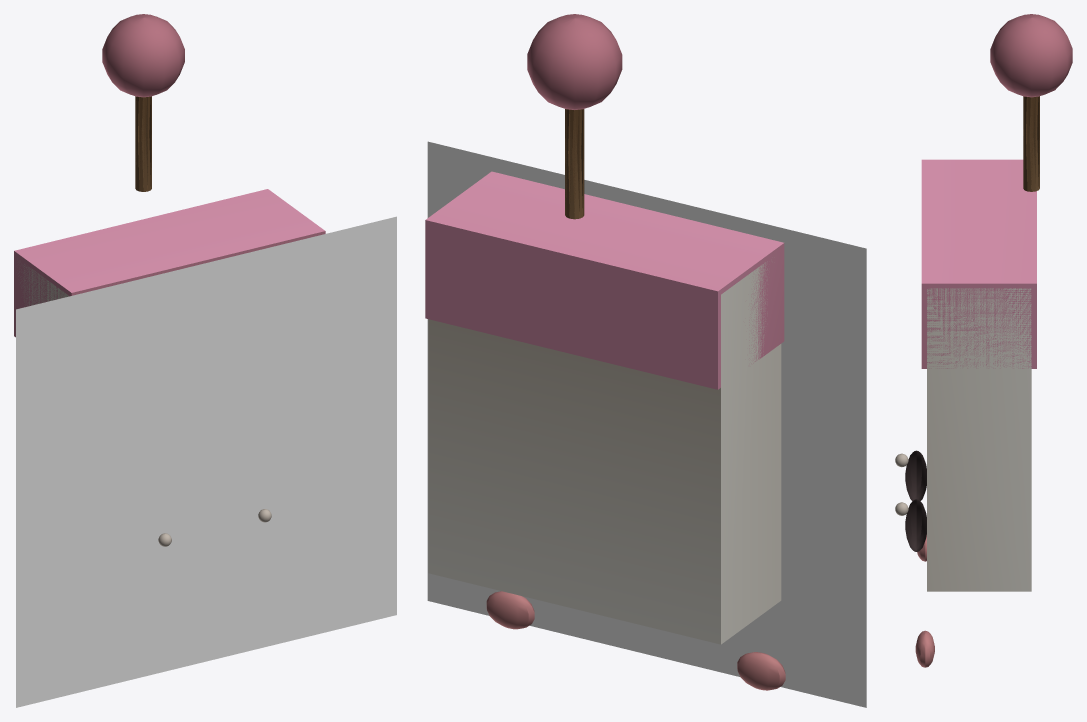
3 views of the same model, side by side, from view 1: azimuth 30°, elevation 25°; view 2: azimuth 150°, elevation 25°; view 3: azimuth 270°, elevation 25° (orthographic). The views are drawn at different scales.
Visible parts, largest first — view 1: pet_p89e341d0; view 2: pet_p89e341d0; view 3: pet_p89e341d0.
Boxes of the visible parts, <box> form: pet_p89e341d0: <box>14,14,396,707</box>; pet_p89e341d0: <box>425,14,866,707</box>; pet_p89e341d0: <box>895,14,1072,667</box>.
Size of the model in its own units: 0.42 by 0.63 by 0.1698.
